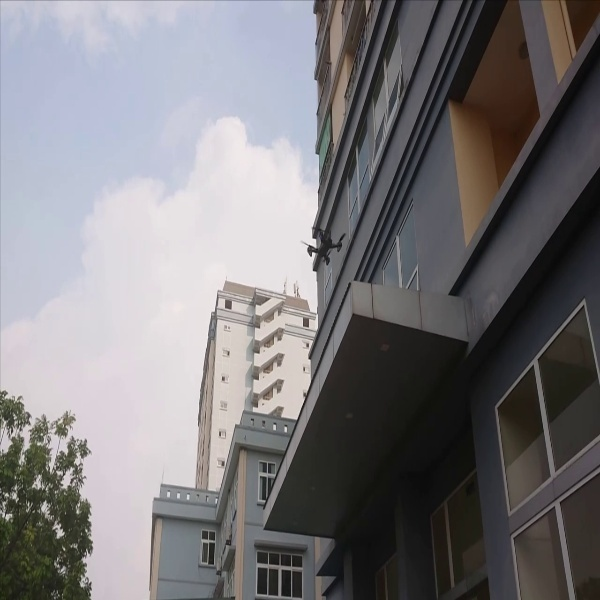drone: (301, 222, 344, 267)
